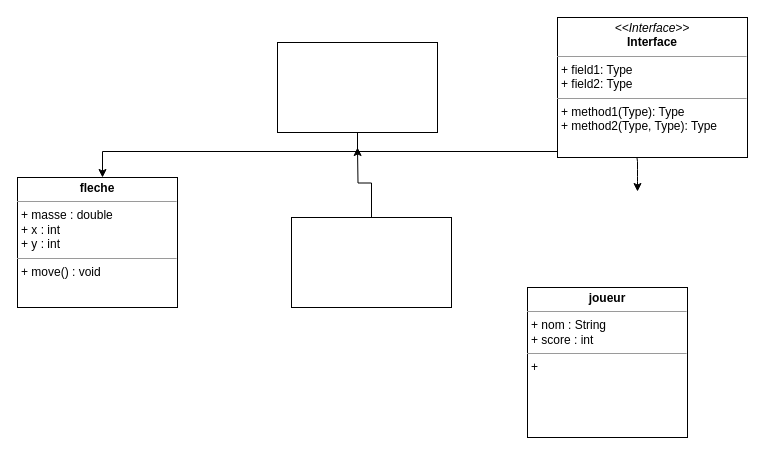
Image size: 765x455. Some labels were removed from this diagram. Each missing label, with the centre of its shape:
mainGame + menu() : void: pixel 357 87
UI + cursor : +: pixel 371 262
